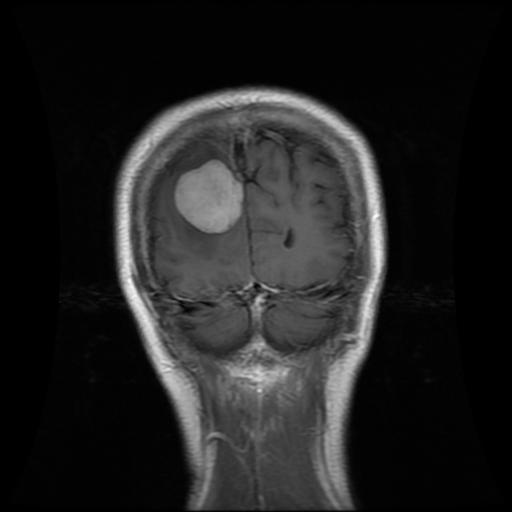Menigiomia_tumour: (174, 158, 243, 232)
